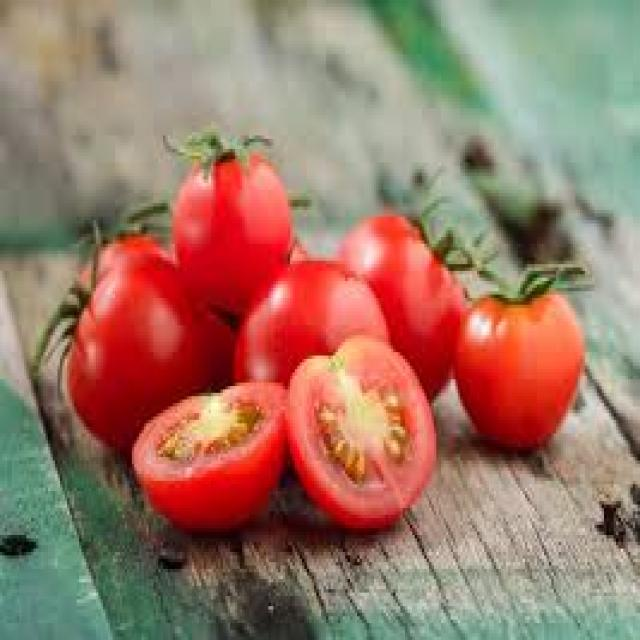organic waste: (26, 200, 232, 454), (338, 186, 496, 400), (283, 325, 431, 532), (127, 376, 288, 535), (453, 254, 580, 454), (161, 122, 290, 308), (228, 257, 388, 393)
